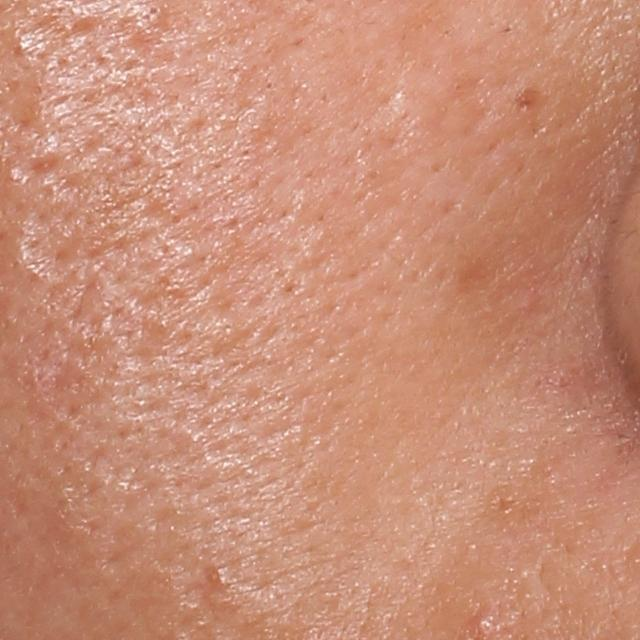atrophic_scar: (13, 188, 85, 282), (15, 150, 66, 185)
comedo: (146, 1, 167, 22)
